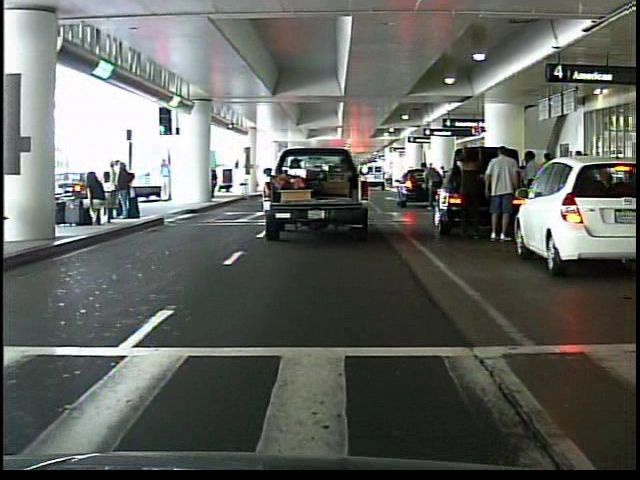person: (452, 139, 488, 242), (482, 143, 517, 243), (517, 145, 543, 243), (420, 158, 446, 211), (159, 157, 176, 202)
